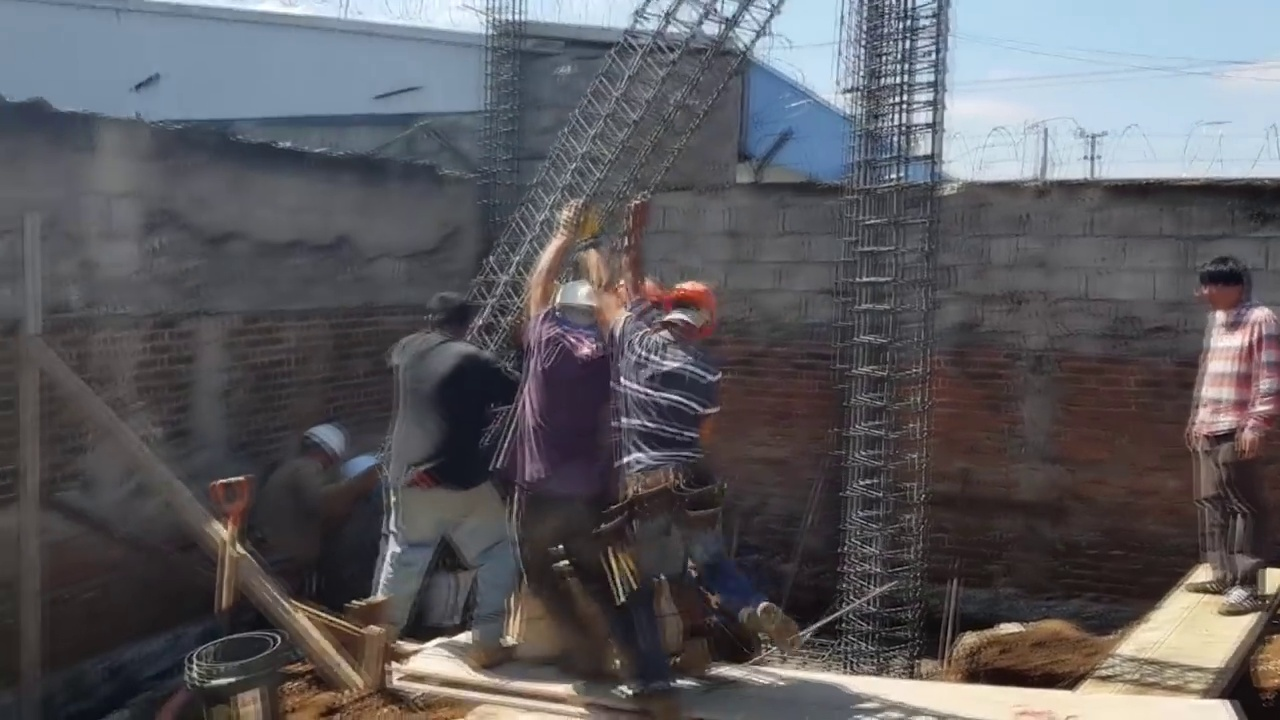helmet: (661, 280, 716, 333), (304, 423, 346, 460), (553, 279, 600, 311), (343, 454, 381, 480)
helmet-off: (1195, 255, 1255, 315), (419, 287, 475, 342)
helmet-on: (656, 280, 719, 347), (297, 423, 347, 476), (553, 280, 600, 333), (344, 455, 383, 495)
person: (579, 211, 799, 691), (520, 199, 639, 712), (373, 286, 518, 658), (1184, 257, 1278, 618), (255, 423, 355, 597)
